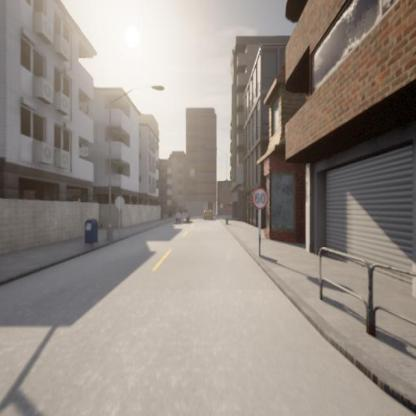traffic_sign_60: (252, 189, 268, 208)
